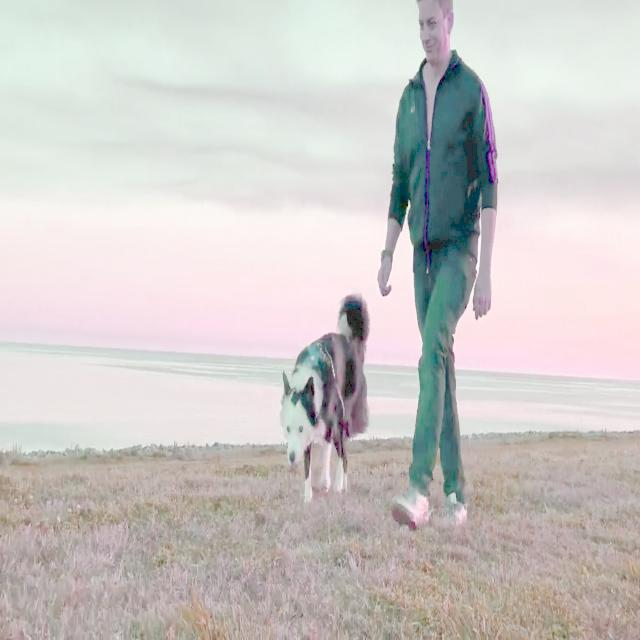Unleashed_Dog: (279, 255, 464, 504)
